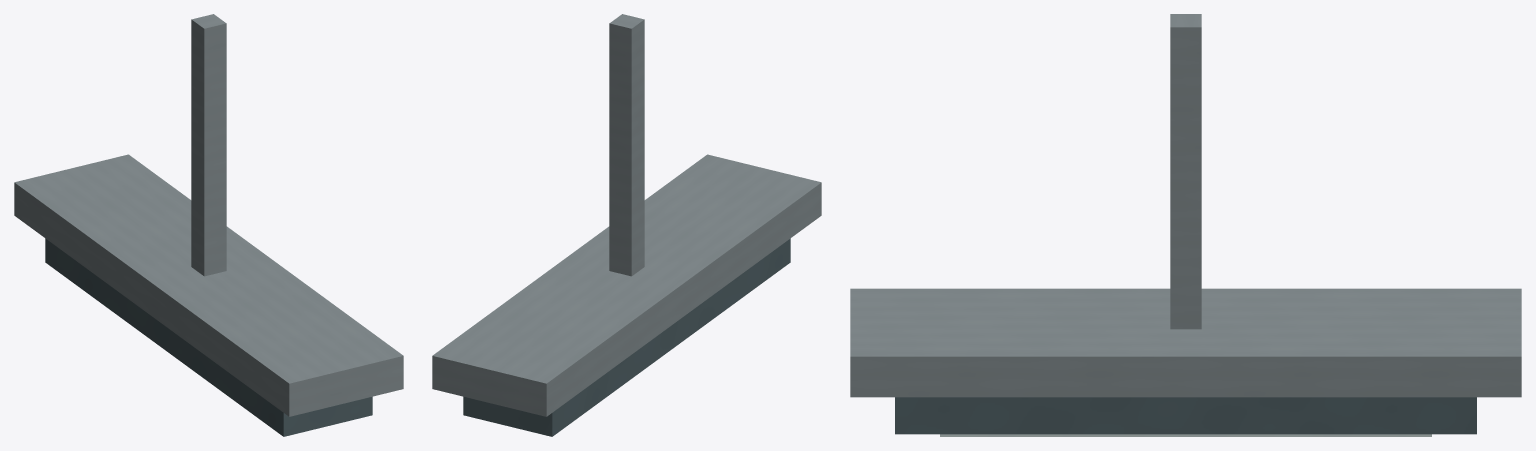
The model's file is AST-ENG-008_west_inspection_fixture.glb.
3 renders of one model, left to right at view 1: azimuth 30°, elevation 25°; view 2: azimuth 150°, elevation 25°; view 3: azimuth 270°, elevation 25°, orthographic. The views are drawn at different scales.
Visible parts, largest first — view 1: WEST_mount, WEST_CapStem, WEST_housing; view 2: WEST_mount, WEST_CapStem, WEST_housing; view 3: WEST_mount, WEST_housing, WEST_CapStem, WEST_opal.
Part boxes in pixels (x1,y1,x2,y2): WEST_mount: (14, 154, 403, 416); WEST_CapStem: (191, 14, 226, 276); WEST_housing: (45, 238, 372, 436); WEST_mount: (432, 154, 821, 416); WEST_CapStem: (609, 14, 644, 276); WEST_housing: (463, 238, 790, 436); WEST_mount: (850, 288, 1521, 397); WEST_housing: (895, 397, 1476, 434); WEST_CapStem: (1170, 14, 1201, 329); WEST_opal: (940, 434, 1431, 436).
Bounding box in the file's own units: 0.36 × 0.98 × 1.5.
Materials: 3 (3 with a texture image).
